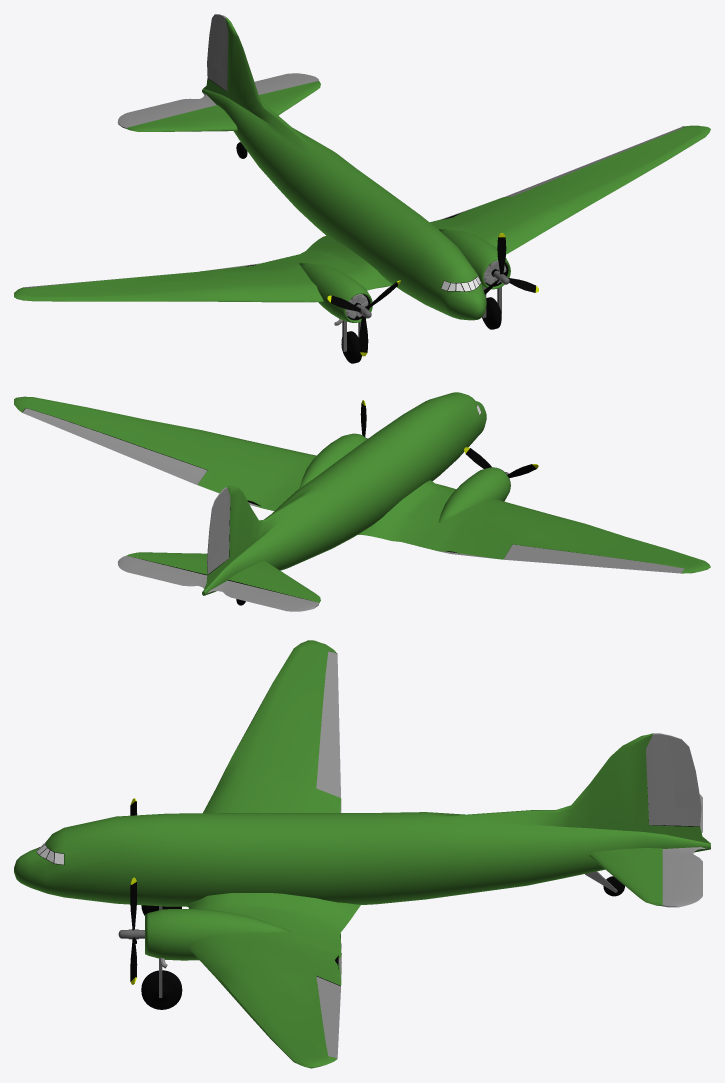
3 renders of one model, top to bottom at view 1: azimuth 30°, elevation 25°; view 2: azimuth 150°, elevation 25°; view 3: azimuth 270°, elevation 25°, orthographic. The views are drawn at different scales.
Visible parts, largest first — view 1: MainBody, Wing, Horizontal Stablizer, Engine Right, Elevator, Engine Left, Rudder, Prop Right, Left Prop; view 2: Wing, MainBody, Elevator, Horizontal Stablizer, Aleron Left, Aleron Right, Engine Right, Rudder, Engine Left, Prop Right; view 3: MainBody, Wing, Rudder, Engine Left, Horizontal Stablizer, Aleron Right, Elevator, Aleron Left, Wheel, Left Prop.
Part boxes in pixels (bbox=[...]): MainBody: bbox=[202, 18, 486, 320]; Wing: bbox=[14, 125, 710, 302]; Horizontal Stablizer: bbox=[126, 81, 320, 131]; Engine Right: bbox=[299, 263, 372, 325]; Elevator: bbox=[117, 73, 318, 128]; Engine Left: bbox=[439, 229, 510, 289]; Rudder: bbox=[207, 14, 228, 91]; Prop Right: bbox=[327, 280, 400, 356]; Left Prop: bbox=[483, 233, 538, 294]; Wing: bbox=[14, 396, 710, 573]; MainBody: bbox=[202, 392, 486, 595]; Elevator: bbox=[117, 555, 319, 611]; Horizontal Stablizer: bbox=[126, 552, 320, 602]; Aleron Left: bbox=[22, 408, 207, 484]; Aleron Right: bbox=[503, 544, 684, 573]; Engine Right: bbox=[438, 467, 510, 523]; Rudder: bbox=[207, 487, 230, 574]; Engine Left: bbox=[299, 433, 367, 488]; Prop Right: bbox=[464, 447, 538, 478]; MainBody: bbox=[14, 733, 710, 906]; Wing: bbox=[188, 640, 360, 1068]; Rudder: bbox=[646, 733, 701, 826]; Engine Left: bbox=[145, 909, 291, 968]; Horizontal Stablizer: bbox=[589, 794, 662, 906]; Aleron Right: bbox=[316, 651, 340, 797]; Elevator: bbox=[662, 794, 706, 907]; Aleron Left: bbox=[316, 976, 340, 1058]; Wheel: bbox=[141, 970, 182, 1009]; Left Prop: bbox=[118, 877, 144, 984].
Bounding box in the file's own units: 7702 × 1951 × 5313.
